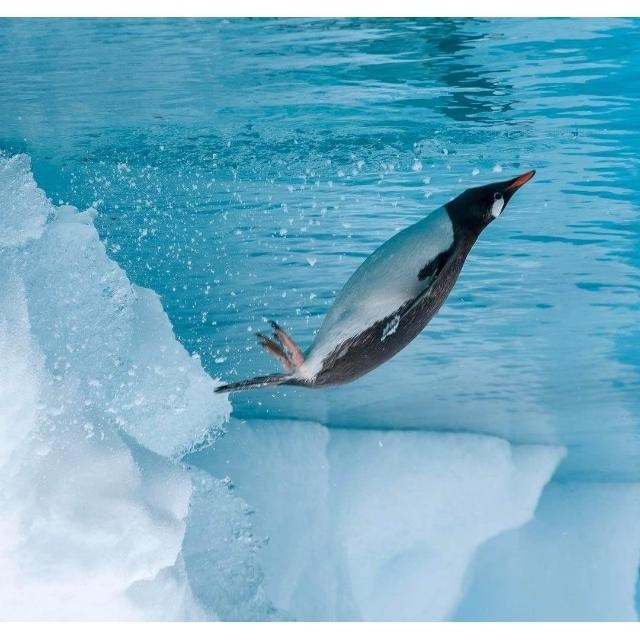penguin: (214, 170, 536, 393)
